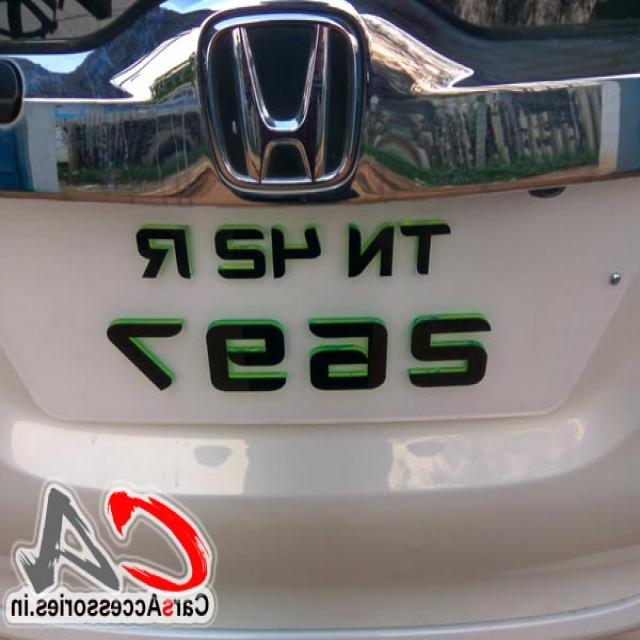license_plate: (0, 179, 640, 422)
